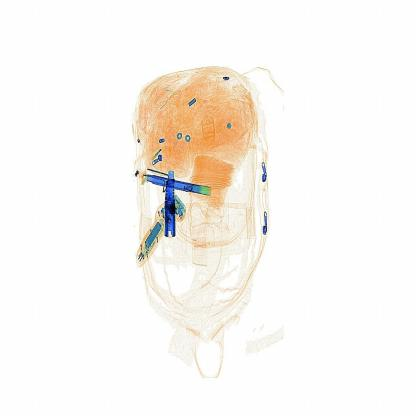pliers: (162, 165, 192, 243)
